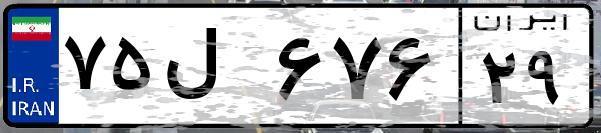2: (475, 38, 525, 113)
5: (110, 28, 158, 98)
6: (270, 28, 330, 110), (385, 28, 445, 110)
7: (330, 28, 385, 110), (57, 26, 110, 100)
9: (525, 38, 570, 115)
ل: (158, 20, 270, 120)
